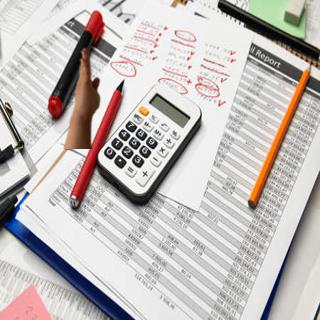RIGHT: (71, 47, 103, 123)
